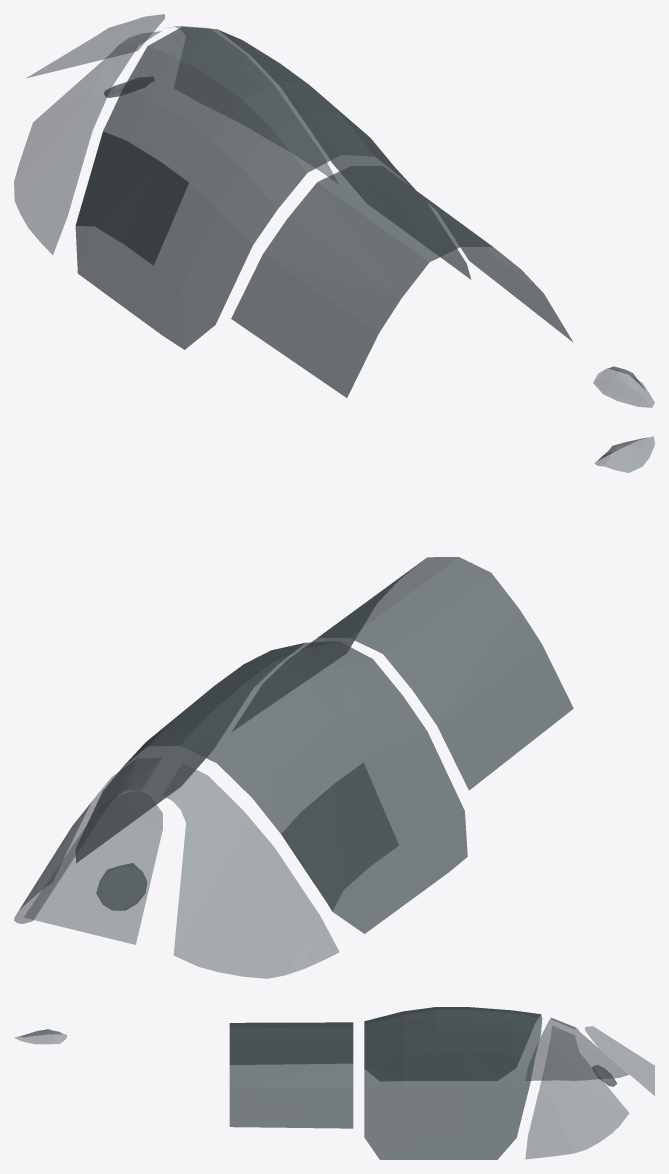
The model's file is glass.obj.
The picture shows the model from 3 angles, top to bottom: view 1: azimuth 30°, elevation 25°; view 2: azimuth 150°, elevation 25°; view 3: azimuth 270°, elevation 25°; orthographic projection. The views are drawn at different scales.
Parts seen in each view (by area): view 1: glass_1; view 2: glass_1; view 3: glass_1.
Part boxes in pixels (<box>): glass_1: <box>14,14,654,407</box>; glass_1: <box>14,436,654,978</box>; glass_1: <box>14,1007,654,1159</box>.
Size of the model in its own units: 0.616 by 0.404 by 2.12.
1 material, 1 textured.
